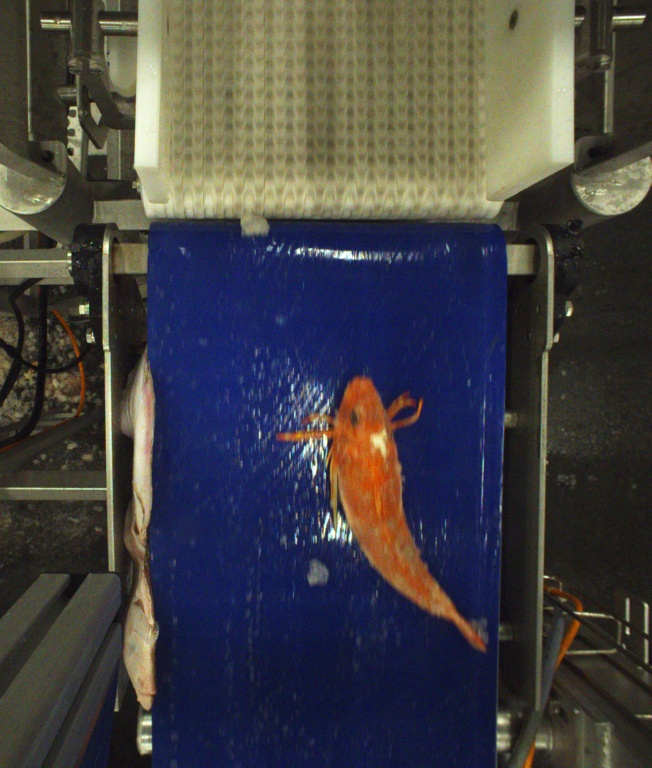GUU: (280, 379, 485, 657)
